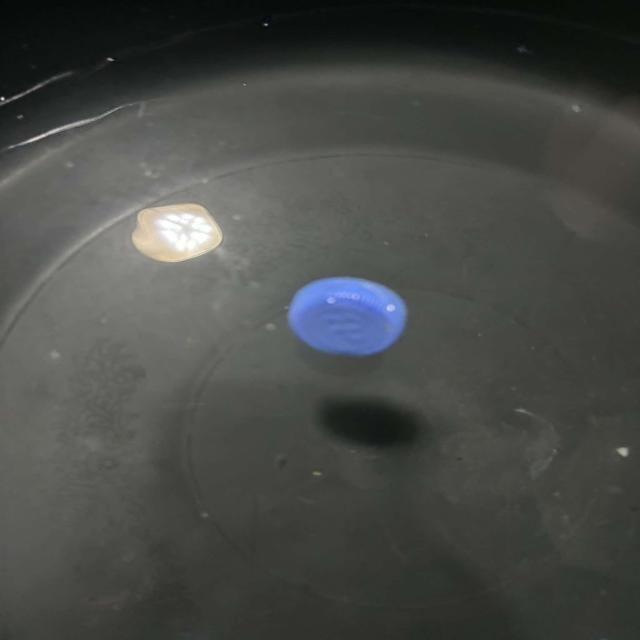Bottle Lid: (288, 278, 406, 356)
